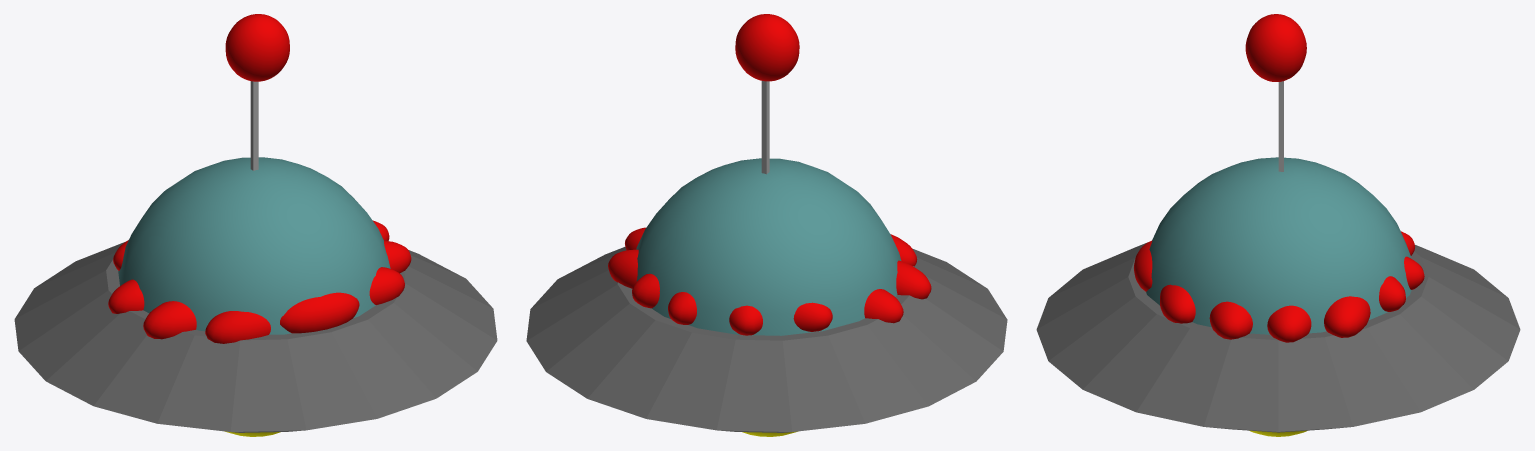
The model's file is space_ship.fbx.
The picture shows the model from 3 angles, left to right: view 1: azimuth 30°, elevation 25°; view 2: azimuth 150°, elevation 25°; view 3: azimuth 270°, elevation 25°; orthographic projection.
Visible parts, largest first — view 1: pSphere20; view 2: pSphere20; view 3: pSphere20.
Boxes of the visible parts, x1,y1,x2,y2 form: pSphere20: (14,14,497,436); pSphere20: (526,14,1007,436); pSphere20: (1036,14,1520,436).
Size of the model in its own units: 2 by 1.88 by 2.
